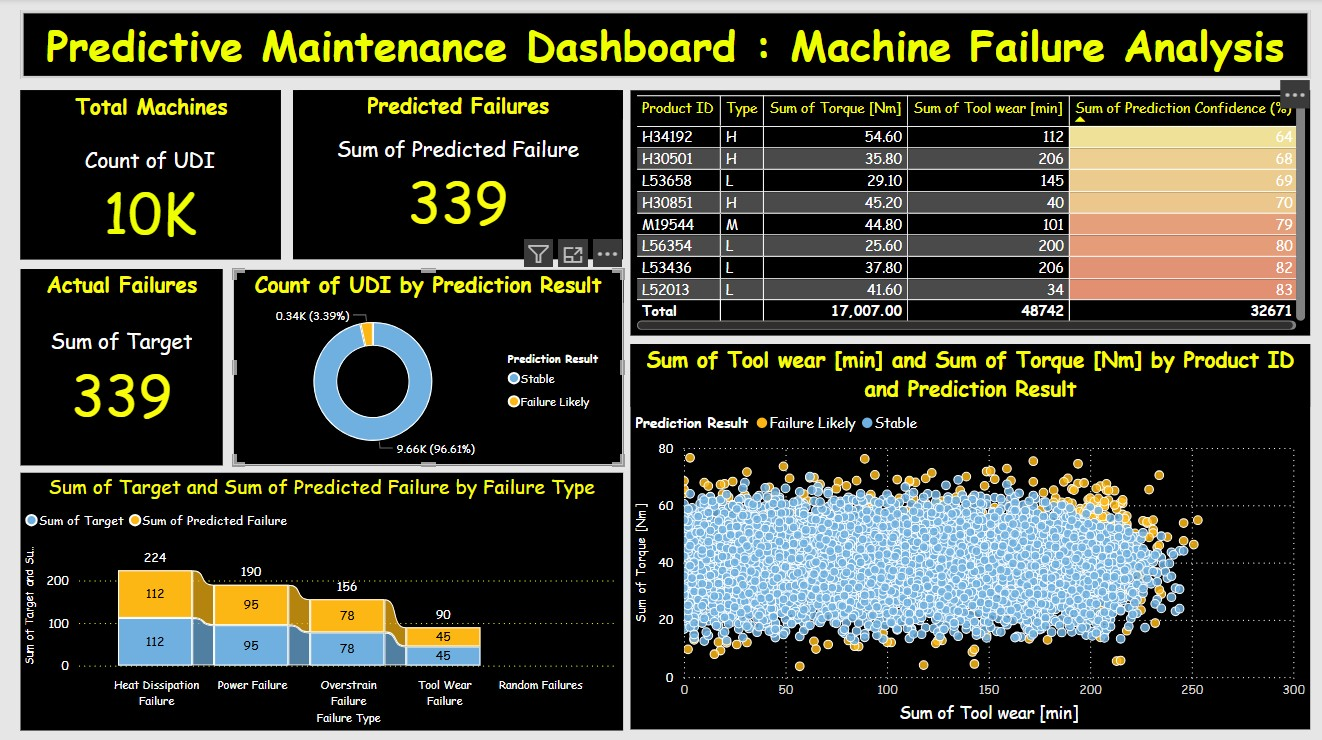

The dashboard page shown, as its layout file describes it:
{"tool":"powerbi","page":{"name":"Dashboard","canvas":[1280,720],"ordinal":0},"visuals":[{"type":"cardVisual","title":"Total Machines","fields":{"Data":["Count(powerbi_dashboard_data.UDI)"]},"box":[21.7,88.1,250.9,162.9],"z":0},{"type":"cardVisual","title":"Actual Failures","fields":{"Data":["Sum(powerbi_dashboard_data.Target)"]},"box":[21.7,260.6,195.4,189.4],"z":1000},{"type":"cardVisual","title":"Predicted Failures","fields":{"Data":["Sum(powerbi_dashboard_data.Predicted Failure)"]},"box":[284.7,88.1,318.5,162.9],"z":2000},{"type":"donutChart","fields":{"Category":["powerbi_dashboard_data.Prediction Result"],"Y":["CountNonNull(powerbi_dashboard_data.UDI)"]},"box":[226.8,260.6,376.4,189.4],"z":4000},{"type":"columnChart","fields":{"Category":["powerbi_dashboard_data.Failure Type"],"Y":["Sum(powerbi_dashboard_data.Target)","Sum(powerbi_dashboard_data.Predicted Failure)"]},"box":[21.7,457.2,581.5,248.5],"z":5000},{"type":"tableEx","fields":{"Values":["powerbi_dashboard_data.Product ID","powerbi_dashboard_data.Type","Sum(powerbi_dashboard_data.Torque [Nm])","Sum(powerbi_dashboard_data.Tool wear [min])","Sum(powerbi_dashboard_data.Prediction Confidence (%))"]},"box":[610.5,88.1,656.3,236.5],"z":6000},{"type":"scatterChart","fields":{"X":["Sum(powerbi_dashboard_data.Tool wear [min])"],"Y":["Sum(powerbi_dashboard_data.Torque [Nm])"],"Series":["powerbi_dashboard_data.Prediction Result"],"Category":["powerbi_dashboard_data.Product ID"]},"box":[610.6,333.4,655.9,371.9],"z":7000},{"type":"actionButton","box":[21.7,10.9,1245,66.4],"z":7001}]}

Visuals, with their boxes in screenshot pixels (x1, y1, x2, y2), scaled from the page's 1280x720 canvas onto the 1322x740 screenshot:
"Total Machines" cardVisual: rect(22, 91, 282, 258)
"Actual Failures" cardVisual: rect(22, 268, 224, 462)
"Predicted Failures" cardVisual: rect(294, 91, 623, 258)
donutChart - powerbi_dashboard_data.Prediction Result x CountNonNull(powerbi_dashboard_data.UDI): rect(234, 268, 623, 462)
columnChart - powerbi_dashboard_data.Failure Type x Sum(powerbi_dashboard_data.Target): rect(22, 470, 623, 725)
tableEx - powerbi_dashboard_data.Product ID x powerbi_dashboard_data.Type: rect(631, 91, 1308, 334)
scatterChart - Sum(powerbi_dashboard_data.Tool wear [min]) x Sum(powerbi_dashboard_data.Torque [Nm]): rect(631, 343, 1308, 725)
actionButton: rect(22, 11, 1308, 79)
